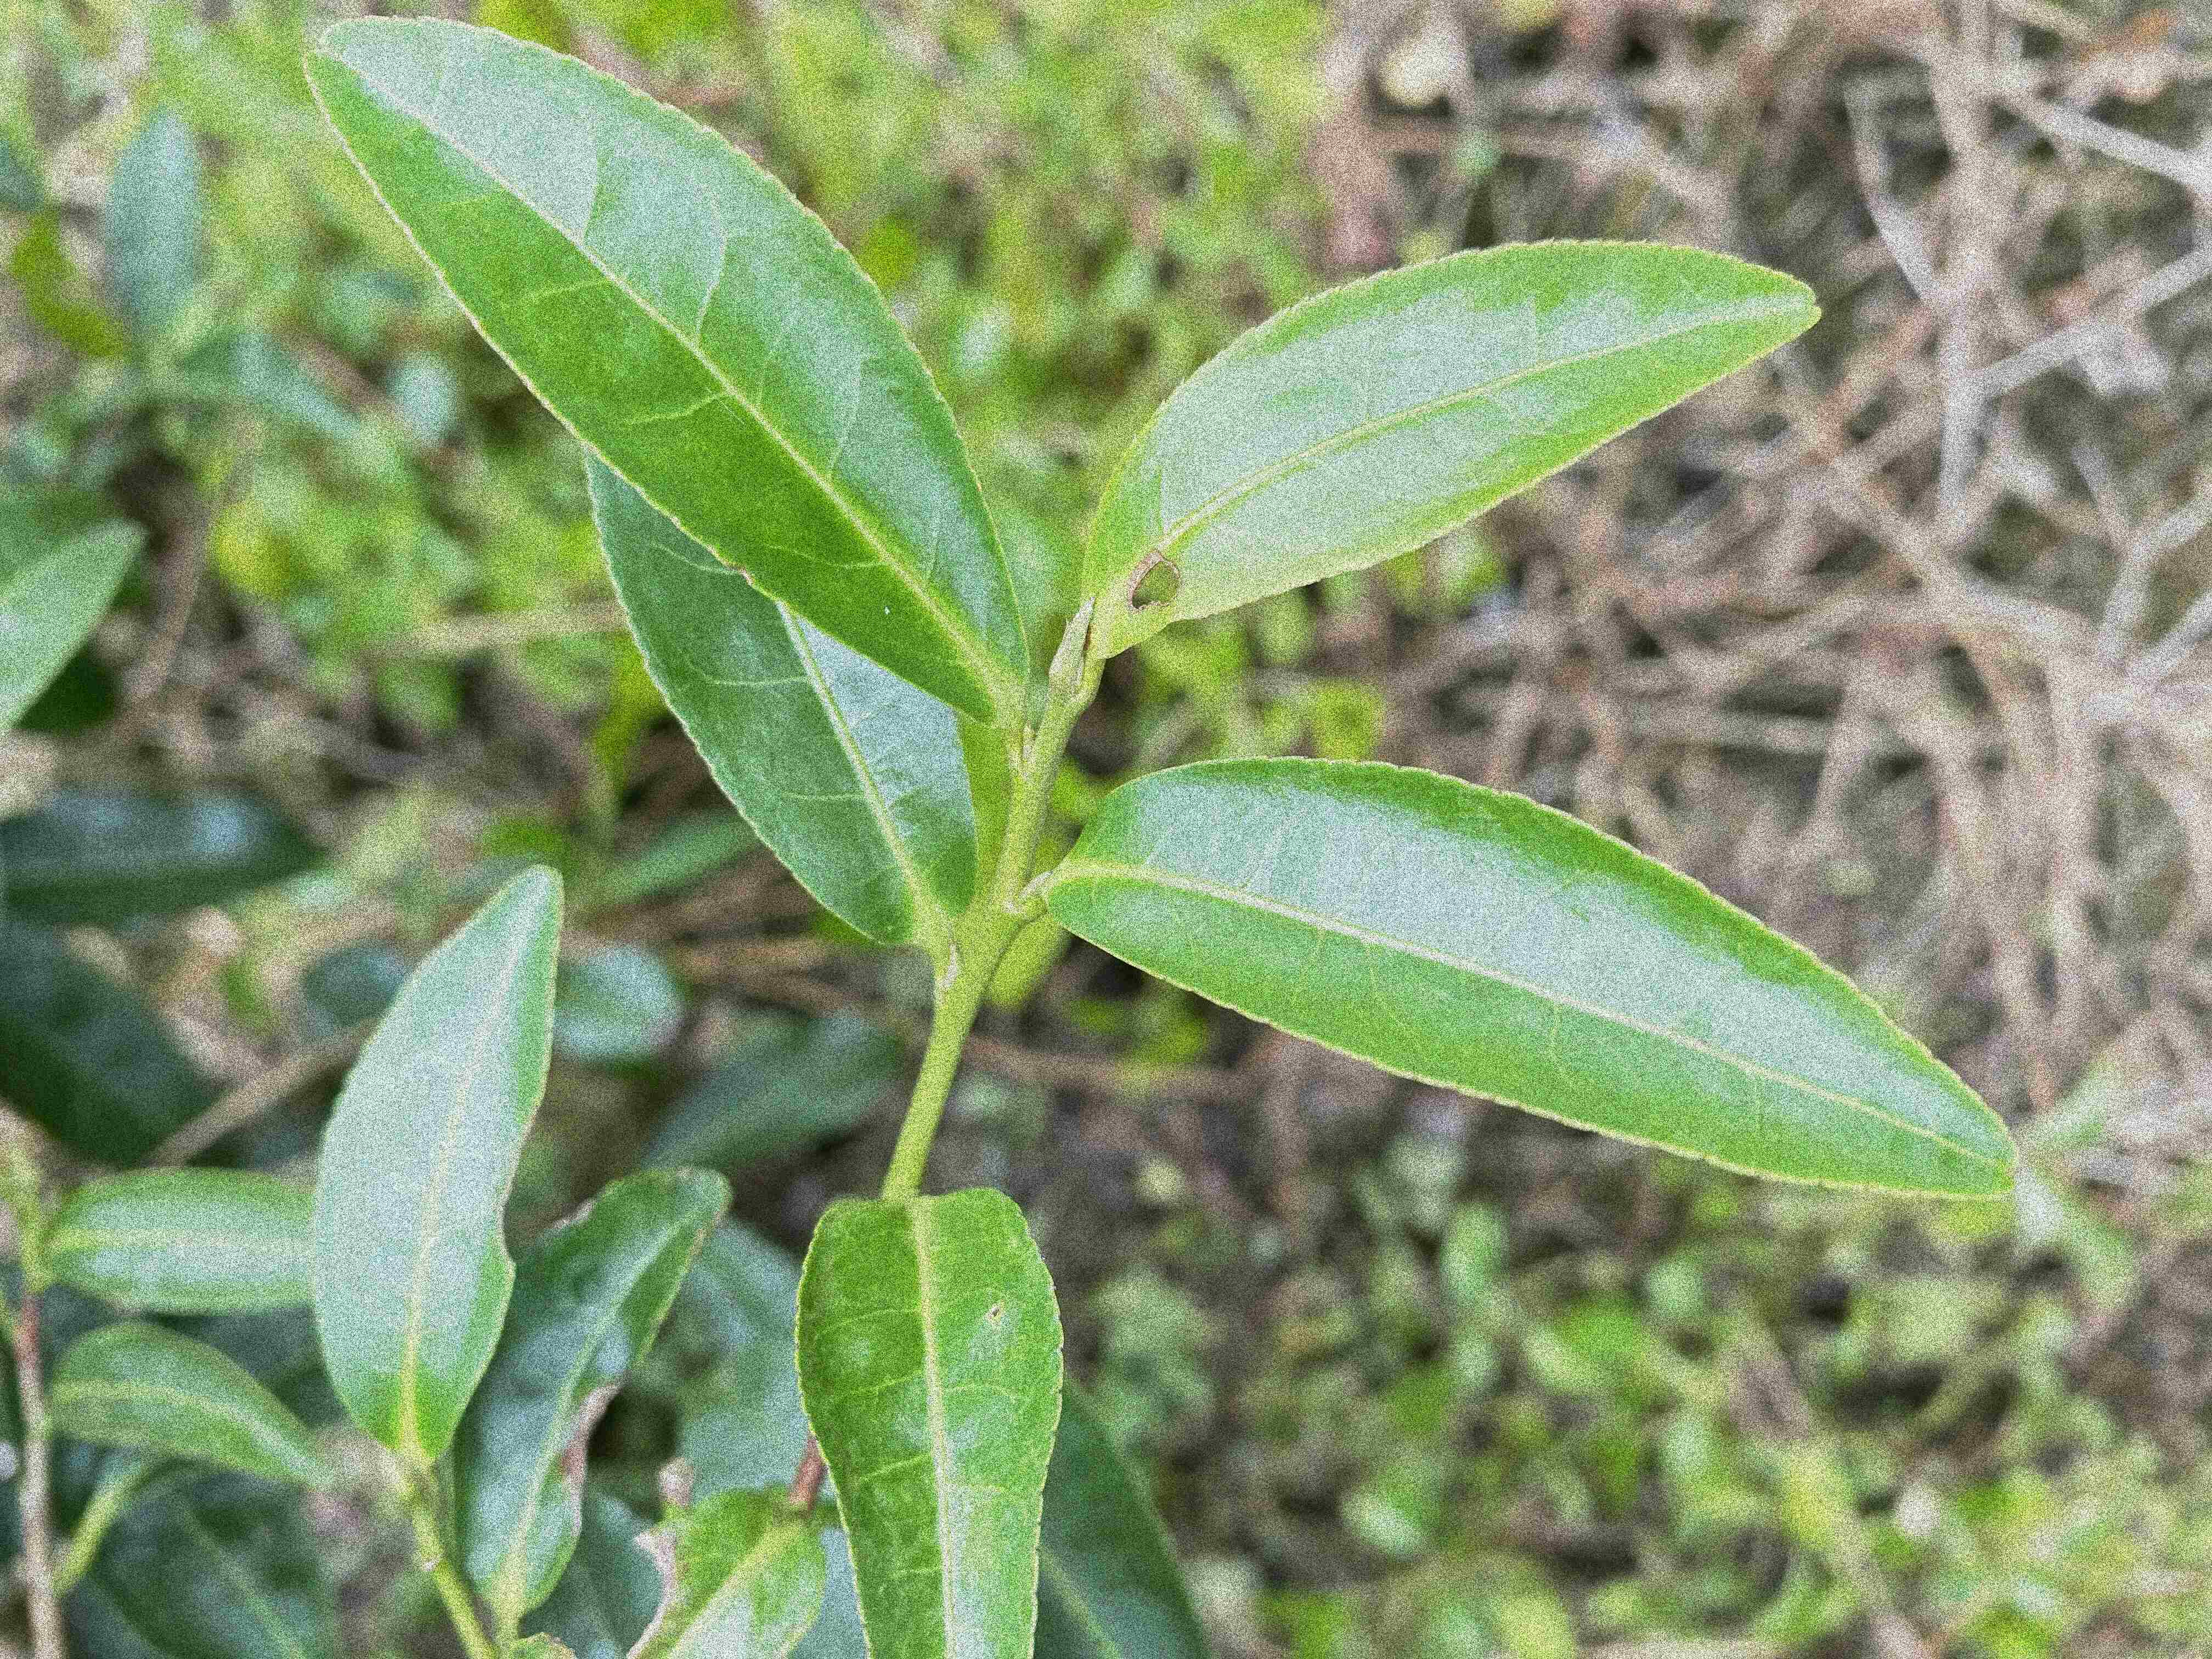chihuo_low: (1076, 235, 1825, 666), (312, 870, 566, 1460)
healthy: (300, 14, 1033, 732), (1047, 751, 2019, 1199), (585, 439, 981, 950), (792, 1185, 1066, 1657)
tanju_low: (456, 1166, 733, 1615)
